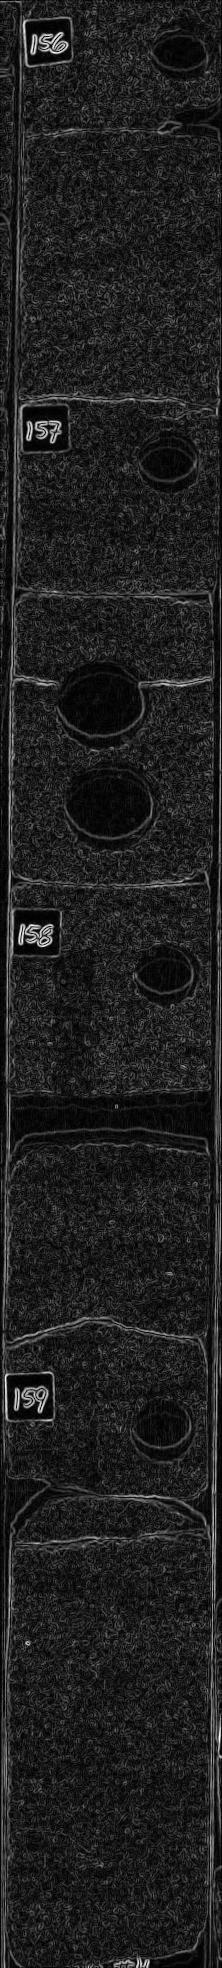hplug: (134, 11, 222, 87), (124, 935, 209, 1012), (124, 1389, 206, 1468), (125, 429, 214, 496)
scal: (55, 758, 169, 862), (46, 649, 157, 753)
vplug: (33, 1315, 103, 1496)
